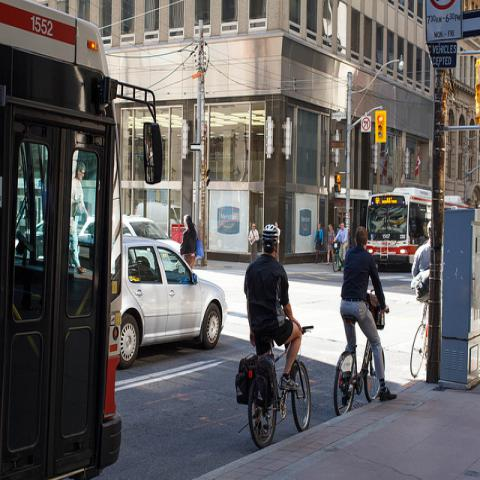bus: (1, 0, 166, 472), (366, 187, 470, 271)
car: (119, 235, 229, 367), (77, 213, 182, 251)
